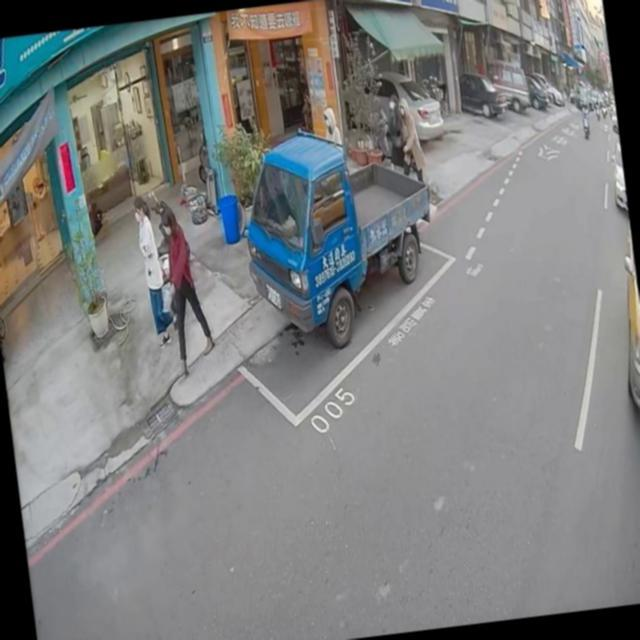person: (146, 195, 218, 379), (132, 198, 179, 356), (391, 93, 431, 193), (382, 92, 409, 172), (318, 100, 345, 156), (579, 101, 588, 115)
